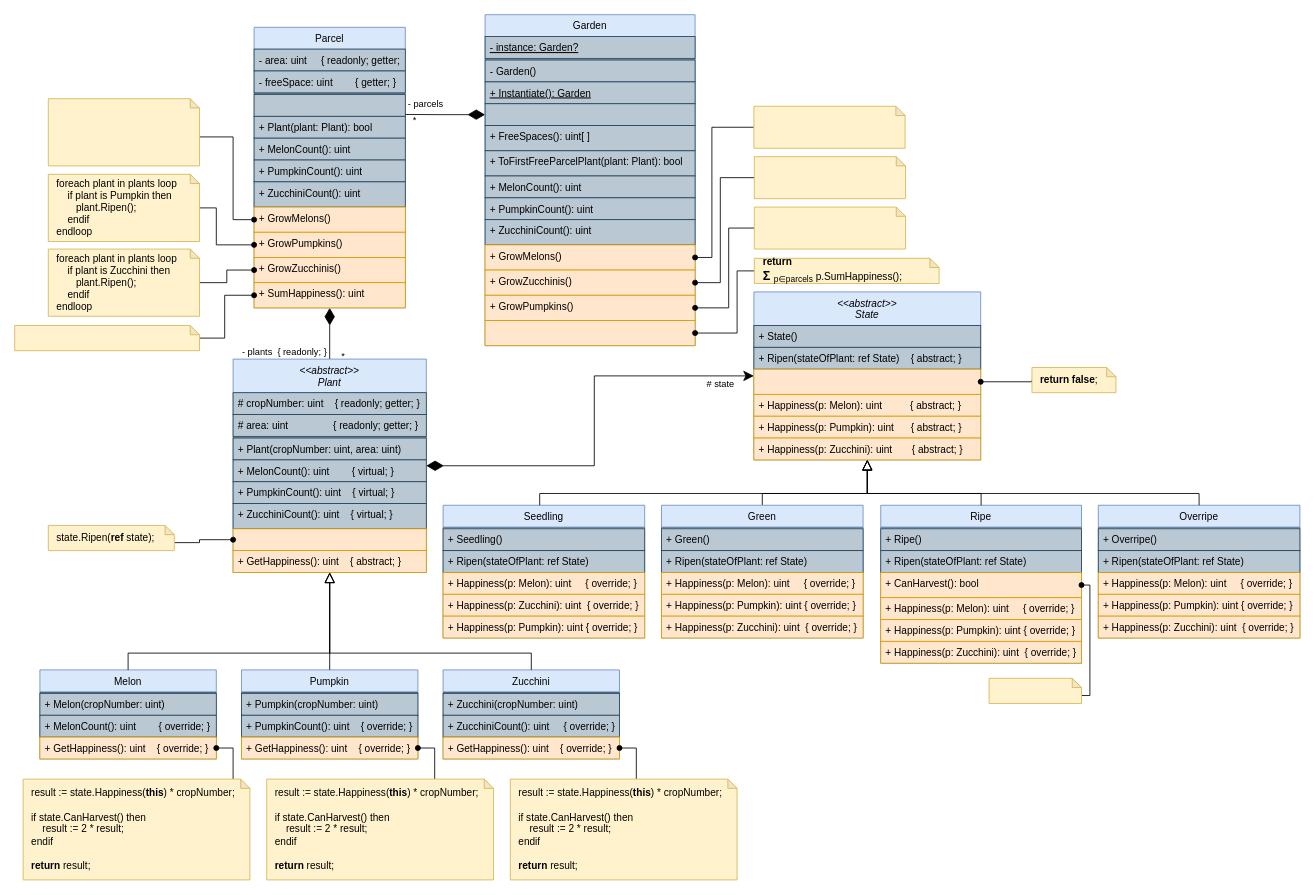
Image size: 1315x895. Some labels were removed from this diagram. The shapes that lost their labels are listed below. From the top down, each one's centre as x and y in pixels, then its label:
At (329,105): "+ Parcel(area: uint)".
At (589,114): "+ CreateParcel(area: uint)".
At (123,132): "foreach plant in plants loop if plant is Melon then plant.Ripen(); endif endloop".
At (829,126): "foreach parcel in parcels loop parcel.GrowMelons(); endloop".
At (829,177): "foreach parcel in parcels loop parcel.GrowPumpkins(); endloop".
At (829,227): "foreach parcel in parcels loop parcel.GrowZucchinis(); endloop".
At (107,338): "return Σ p∈plants p.GetHappiness();".
At (589,333): "+ HappinessMeter(): uint".
At (867,381): "+ CanHarvest(): bool { virtual; }".
At (329,539): "+ Ripen()".
At (1035,690): "return true ;".
